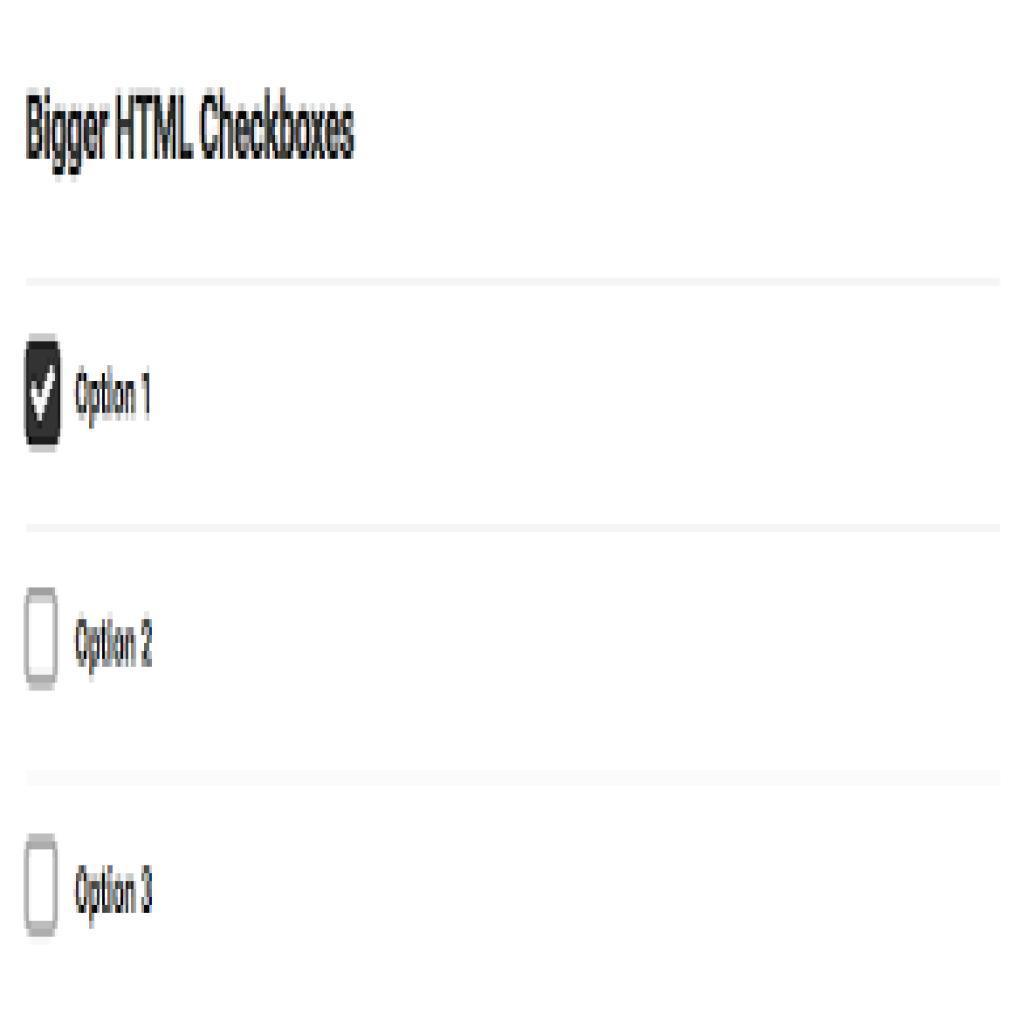checkbox: (24, 333, 65, 451), (24, 587, 63, 694), (24, 831, 61, 939)
label: (25, 81, 360, 181), (77, 611, 160, 681), (71, 362, 155, 431), (74, 863, 156, 928)
